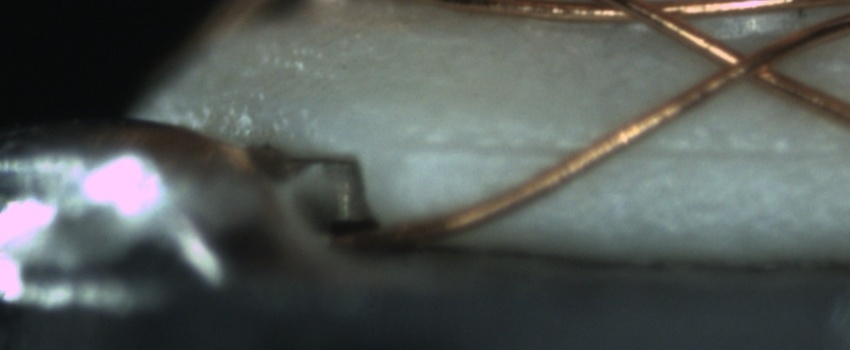CL: (698, 36, 790, 92)
DL: (410, 120, 850, 184)
